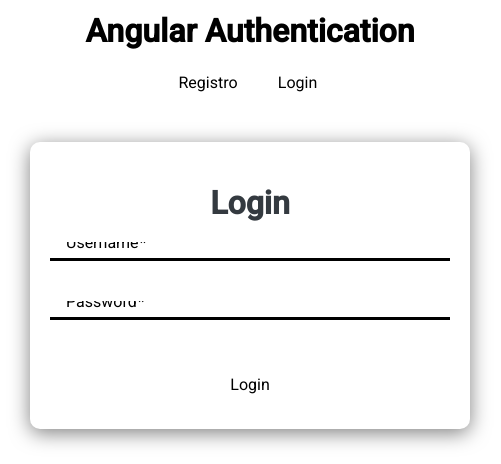
Página de Inicio de Sesión › debería mostrar errores de validación
Step 1. Click the submit button → (250, 385), box x1=214 y1=375 x2=286 y2=394
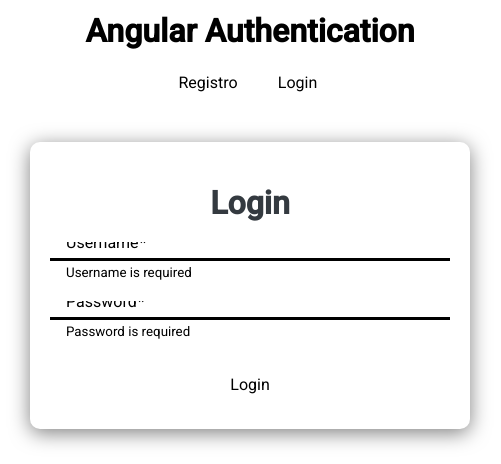
Now the text "Username is required" is shown, box x1=66 y1=265 x2=192 y2=280
Now the text "Password is required" is shown, box x1=66 y1=324 x2=190 y2=339
